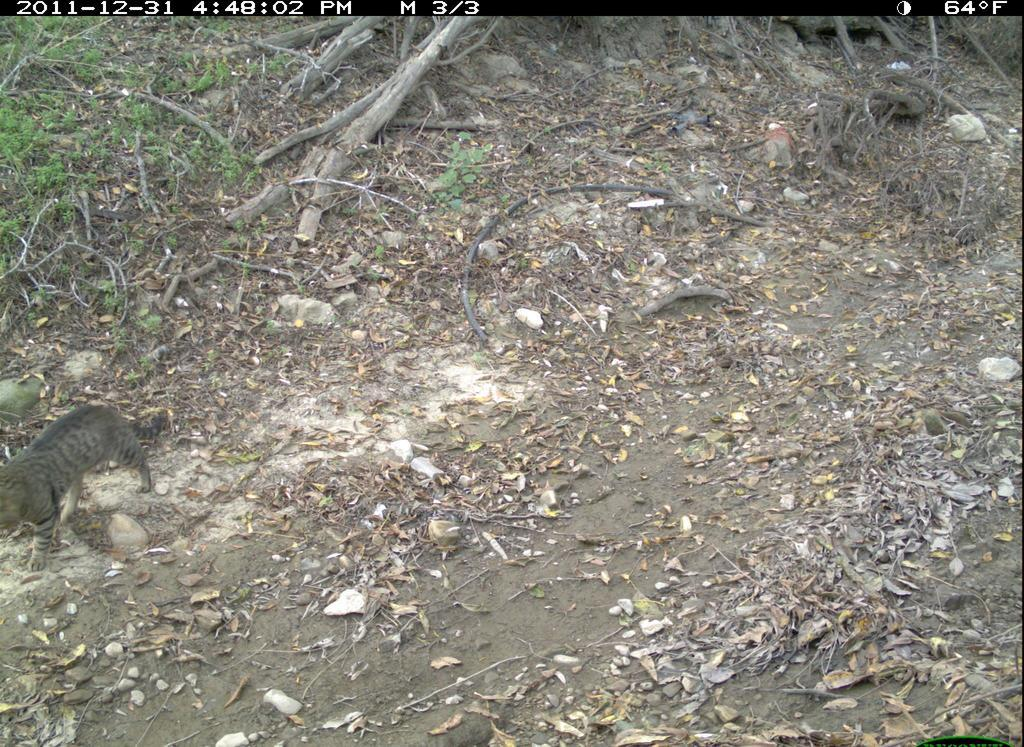cat: (4, 391, 176, 575)
